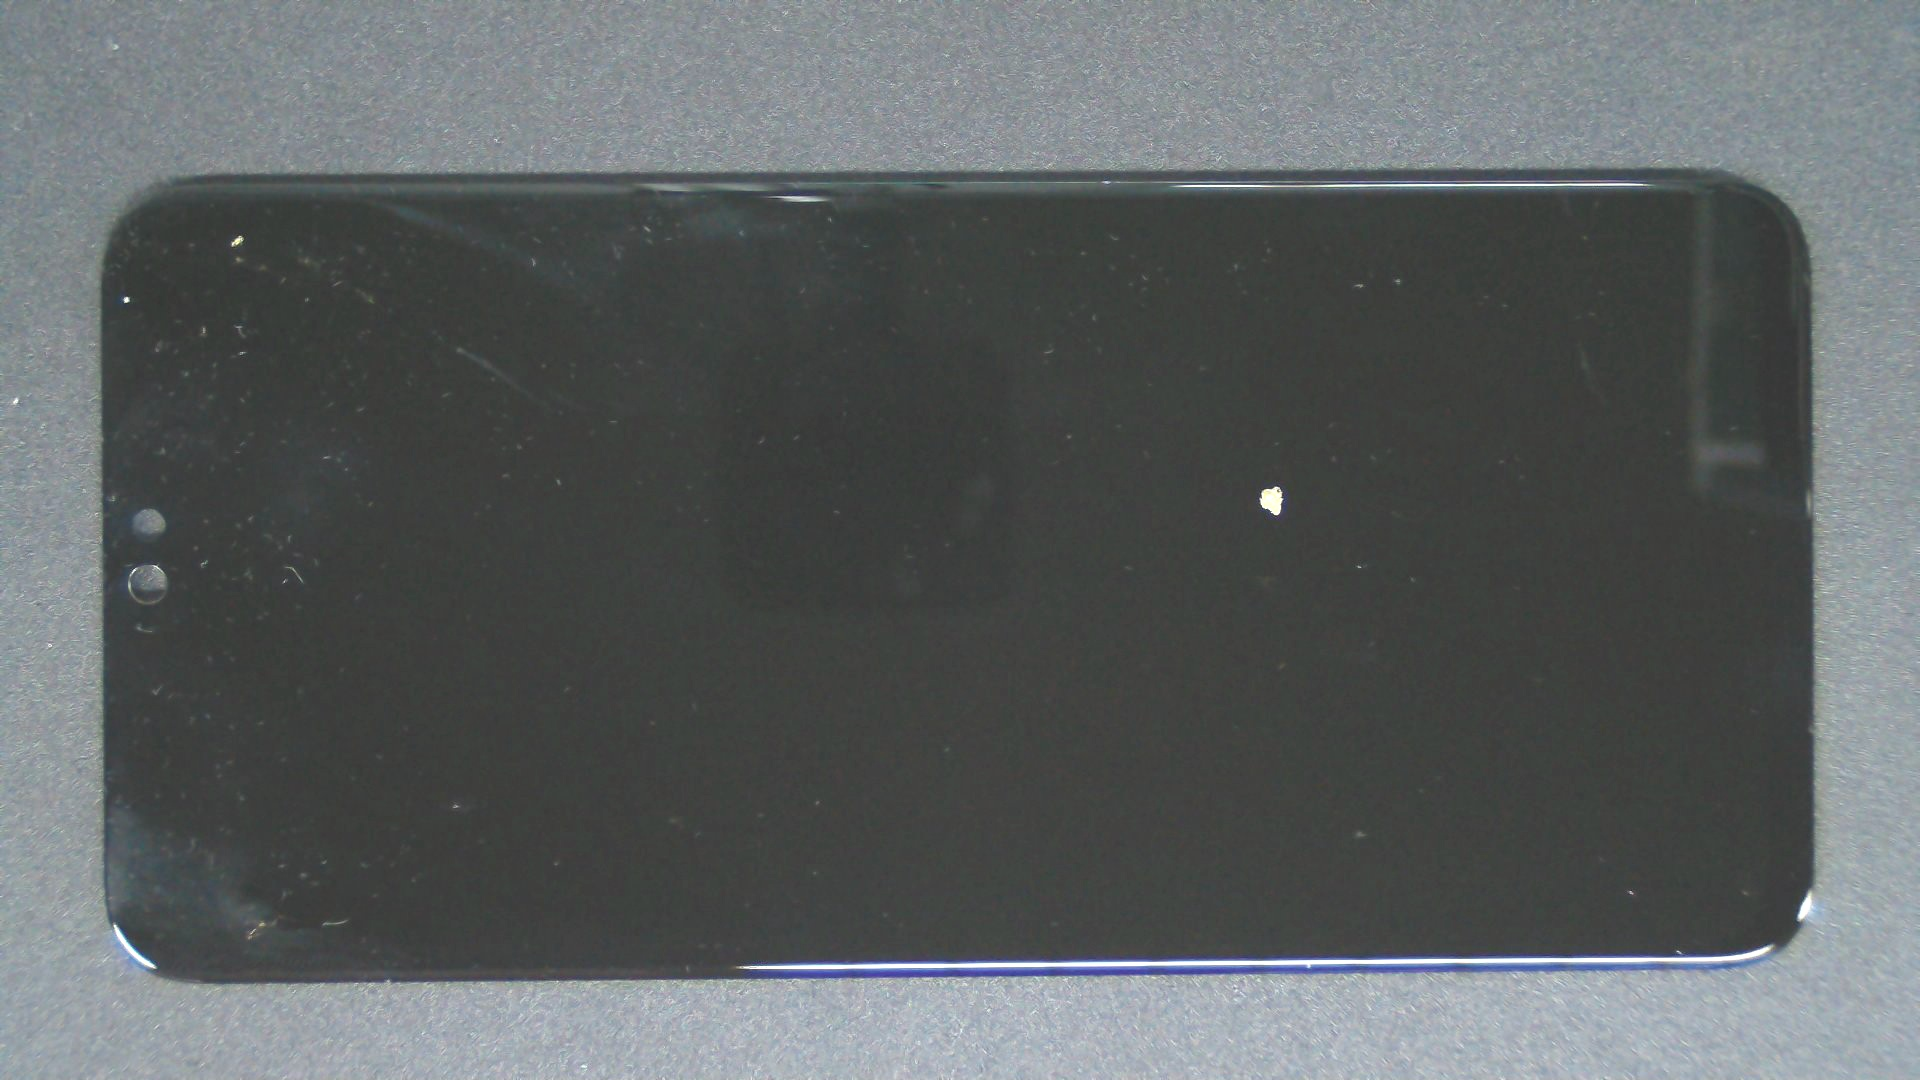oil: (638, 241, 1912, 727)
